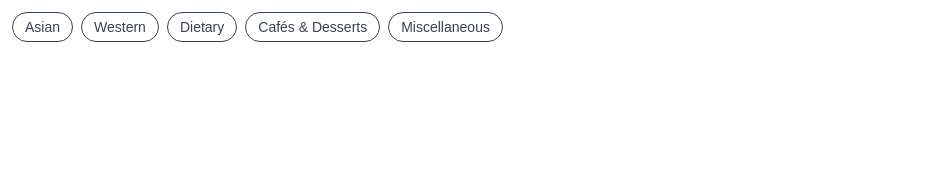
it: CuisinePicker › reveals a group's specific cuisines after selecting the group
What coordinates should you click on to do the following:
click the button "Asian"
I would click on:
 (42, 27)
Its box is [12, 12, 73, 42].
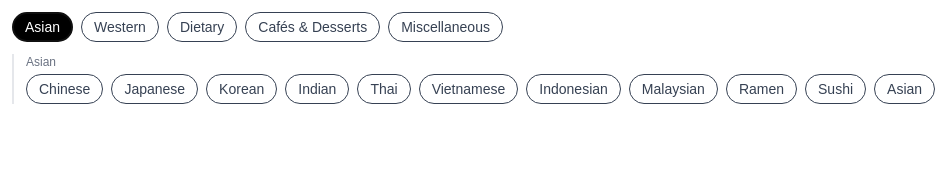
Now the button "Japanese" is shown, box [111, 74, 198, 104]
Now the button "Chinese" is shown, box [26, 74, 103, 104]
